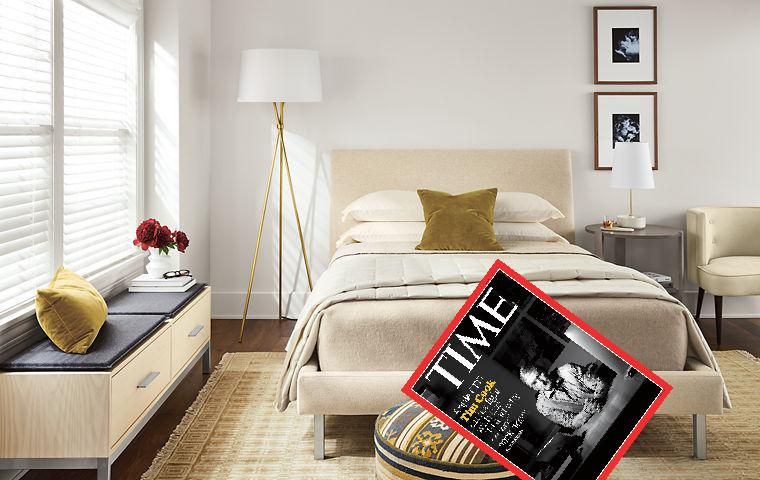times: (397, 257, 674, 480)
